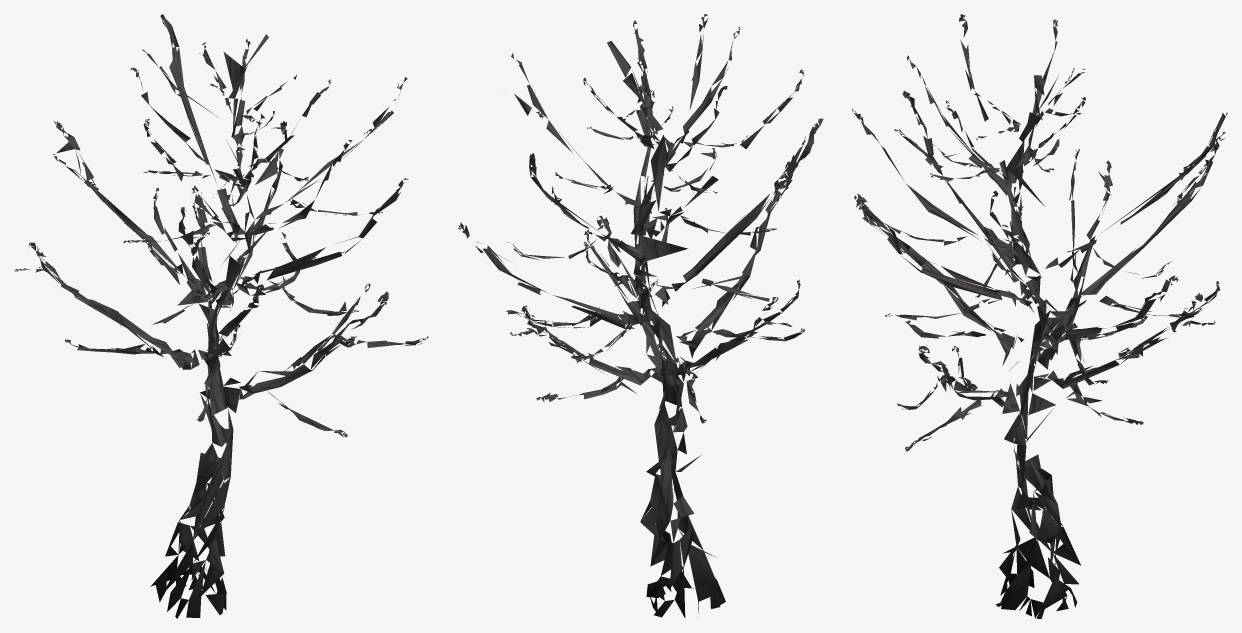
File: kering-1.glb
The picture shows the model from 3 angles, left to right: view 1: azimuth 30°, elevation 25°; view 2: azimuth 150°, elevation 25°; view 3: azimuth 270°, elevation 25°; orthographic projection. The views are drawn at different scales.
Parts seen in each view (by area): view 1: DeadTree_1; view 2: DeadTree_1; view 3: DeadTree_1.
Boxes of the visible parts, <box> form: DeadTree_1: <box>14,14,428,618</box>; DeadTree_1: <box>458,14,823,618</box>; DeadTree_1: <box>852,14,1227,618</box>.
Bounding box in the file's own units: 4.5 × 7.03 × 4.22.
Materials: 1 (1 with a texture image).
